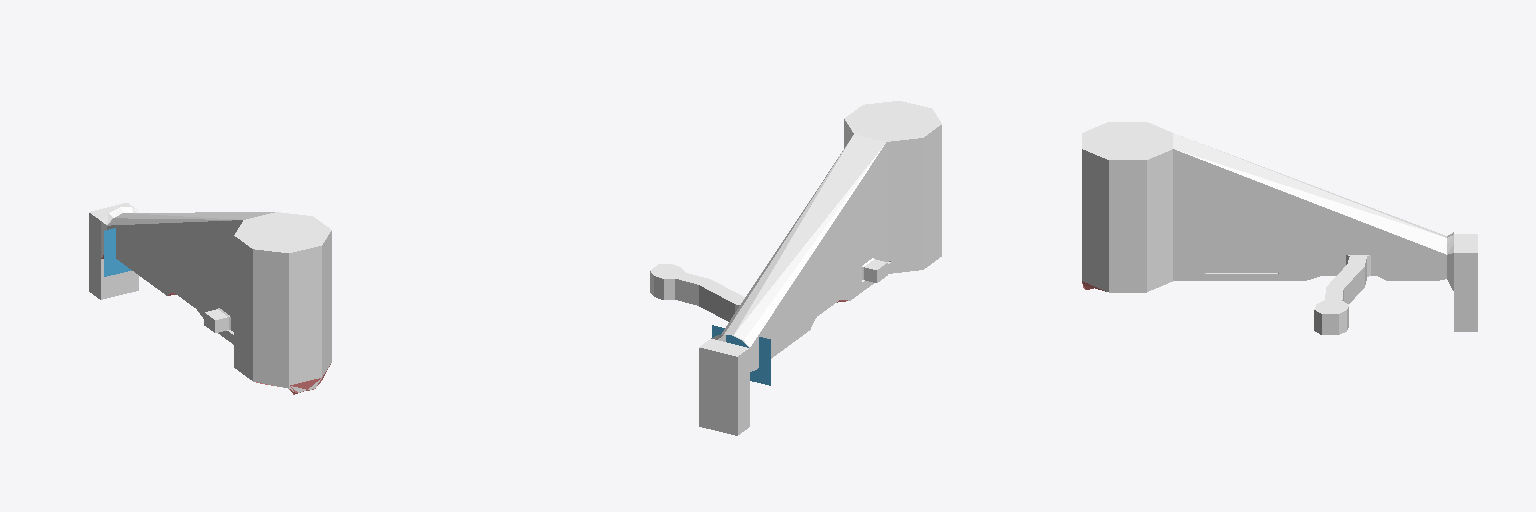
Rendered from Metal Cap Area 1.obj.
3 renders of one model, left to right at view 1: azimuth 30°, elevation 25°; view 2: azimuth 150°, elevation 25°; view 3: azimuth 270°, elevation 25°, orthographic.
Size of the model in its own units: 12216 by 11978 by 23612.